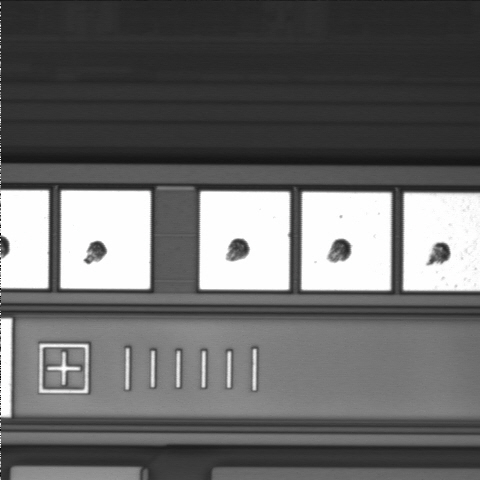pad: (200, 191, 290, 290), (61, 191, 150, 289), (302, 192, 391, 290)
